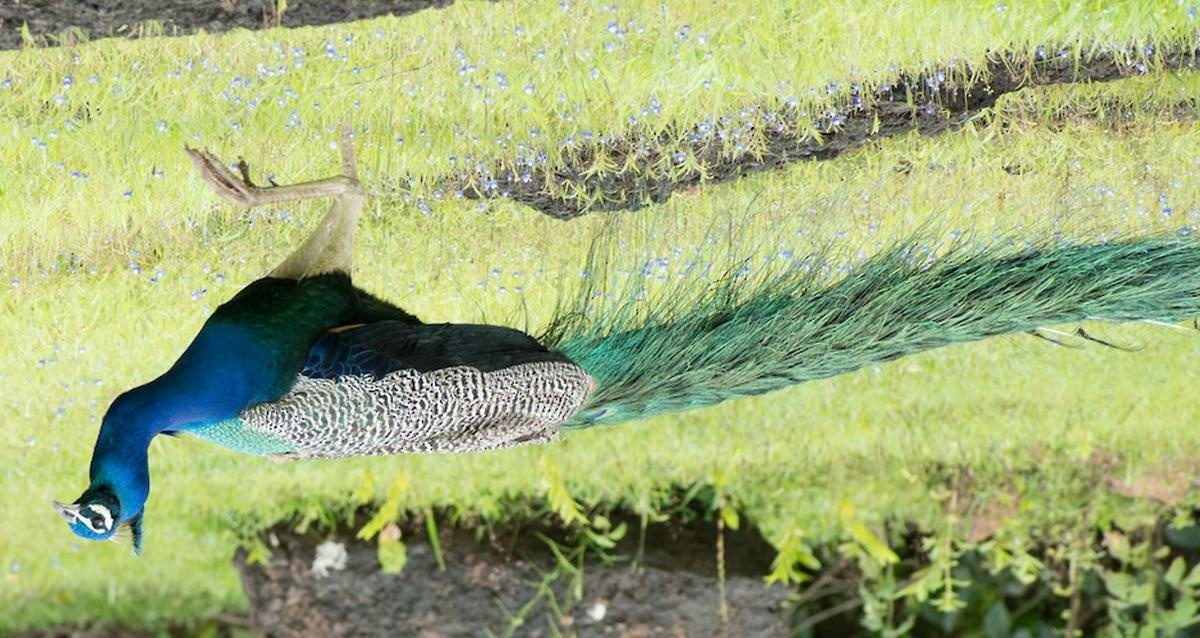peacock: (44, 129, 1147, 574)
